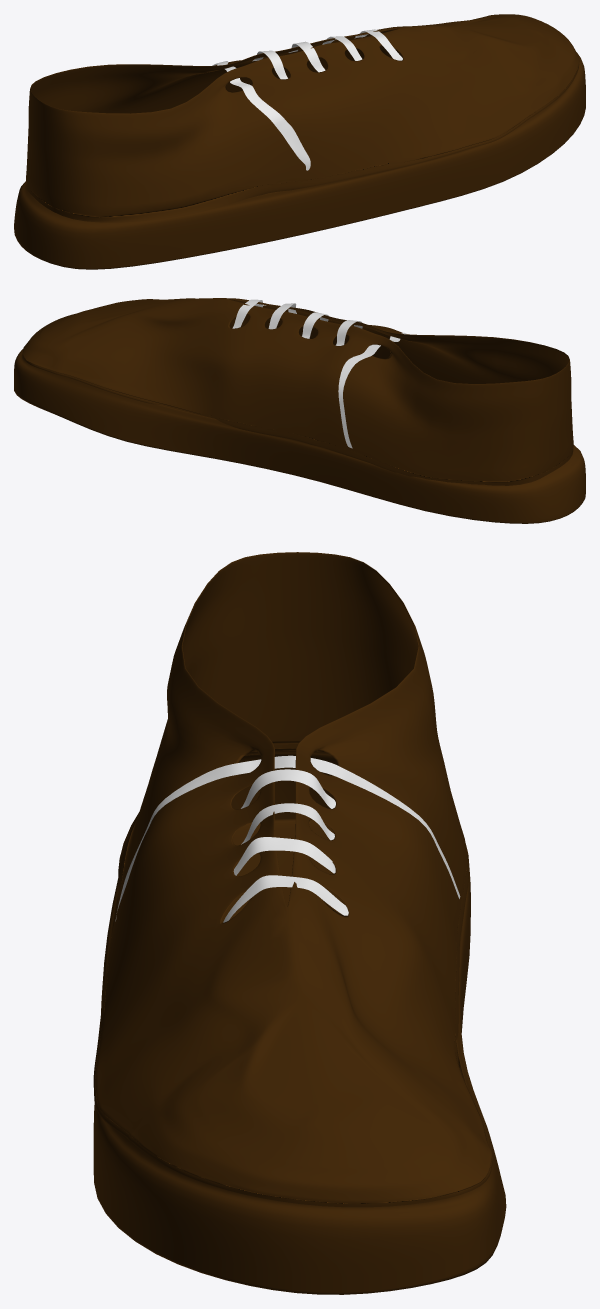
File: zapato.fbx
3 views of the same model, one above another, from view 1: azimuth 30°, elevation 25°; view 2: azimuth 150°, elevation 25°; view 3: azimuth 270°, elevation 25° (orthographic). The views are drawn at different scales.
Parts seen in each view (by area): view 1: Plane, Plane.005, Plane.001, Plane.003, Plane.004; view 2: Plane, Plane.005, Plane.001, Plane.002, Plane.003; view 3: Plane, Plane.005, Plane.001, Plane.002, Plane.004, Plane.003.
Part boxes in pixels (box(x1,y1,x2,y2)): Plane: box(14, 14, 585, 269); Plane.005: box(212, 61, 310, 170); Plane.001: box(354, 29, 402, 60); Plane.003: box(288, 41, 325, 72); Plane.004: box(252, 50, 287, 79); Plane: box(14, 298, 585, 523); Plane.005: box(338, 333, 407, 448); Plane.001: box(232, 299, 262, 328); Plane.002: box(268, 303, 296, 329); Plane.003: box(302, 312, 328, 338); Plane: box(93, 552, 506, 1294); Plane.005: box(115, 755, 460, 921); Plane.001: box(223, 875, 348, 922); Plane.002: box(233, 837, 335, 875); Plane.004: box(241, 769, 335, 808); Plane.003: box(241, 803, 334, 844).
Size of the model in its own units: 678 by 174 by 230.
